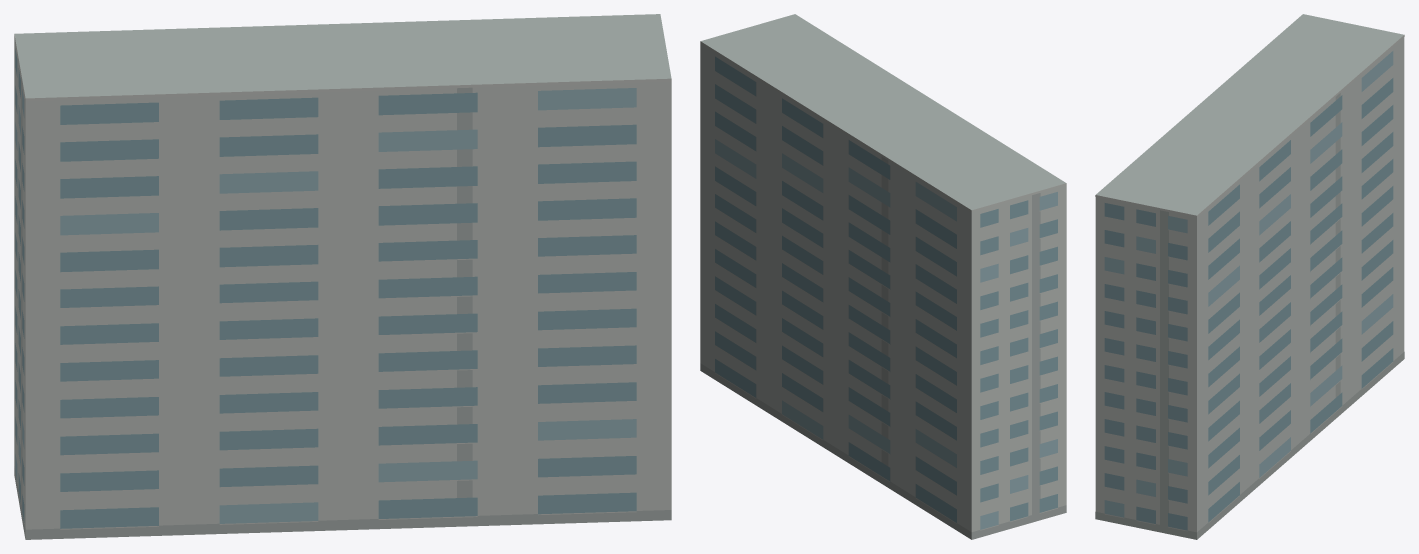
File: residential-5e6a6f12-11ae-4086-94d8-bc1cad4615dc.glb
The picture shows the model from 3 angles, left to right: view 1: azimuth 30°, elevation 25°; view 2: azimuth 150°, elevation 25°; view 3: azimuth 270°, elevation 25°; orthographic projection. The views are drawn at different scales.
Parts seen in each view (by area): view 1: residential-5e6a6f12-11ae-4086-94d8-bc1cad4615dc.tmp; view 2: residential-5e6a6f12-11ae-4086-94d8-bc1cad4615dc.tmp; view 3: residential-5e6a6f12-11ae-4086-94d8-bc1cad4615dc.tmp.
Part boxes in pixels (bbox=[...]): residential-5e6a6f12-11ae-4086-94d8-bc1cad4615dc.tmp: bbox=[14, 14, 671, 539]; residential-5e6a6f12-11ae-4086-94d8-bc1cad4615dc.tmp: bbox=[700, 14, 1066, 539]; residential-5e6a6f12-11ae-4086-94d8-bc1cad4615dc.tmp: bbox=[1095, 14, 1404, 539].
Bounding box in the file's own units: 48.82 × 36.6 × 31.61.
